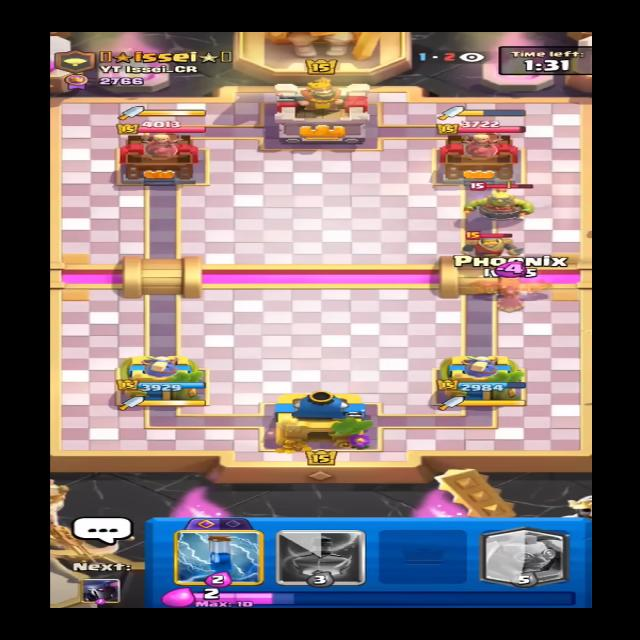goblin-demolisher: (462, 180, 534, 223)
knight: (458, 226, 523, 266)
